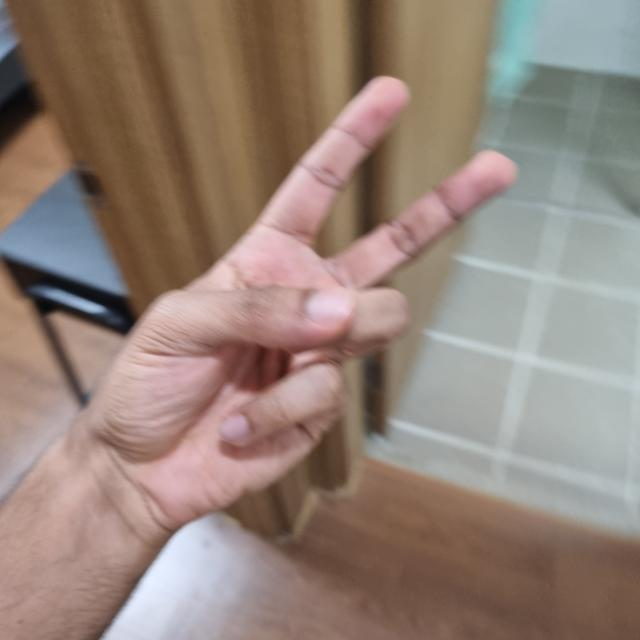Scissors: (95, 82, 515, 519)
